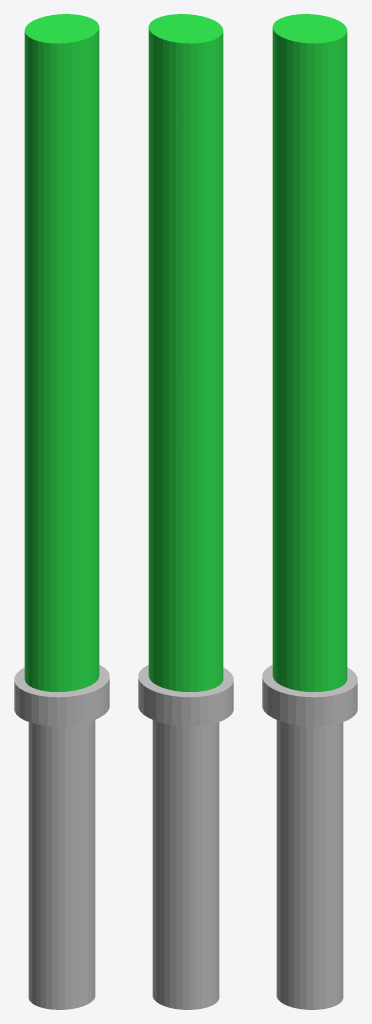
Rendered from saber.obj.
3 renders of one model, left to right at view 1: azimuth 30°, elevation 25°; view 2: azimuth 150°, elevation 25°; view 3: azimuth 330°, elevation 25°, orthographic.
Parts seen in each view (by area): view 1: 円柱.002; view 2: 円柱.002; view 3: 円柱.002.
Part boxes in pixels (x1,y1,x2,y2): 円柱.002: [14, 14, 109, 1009]; 円柱.002: [138, 14, 233, 1009]; 円柱.002: [262, 14, 357, 1009].
Size of the model in its own units: 1.07 by 11.65 by 0.9727.
Materials: 1 (1 with a texture image).
